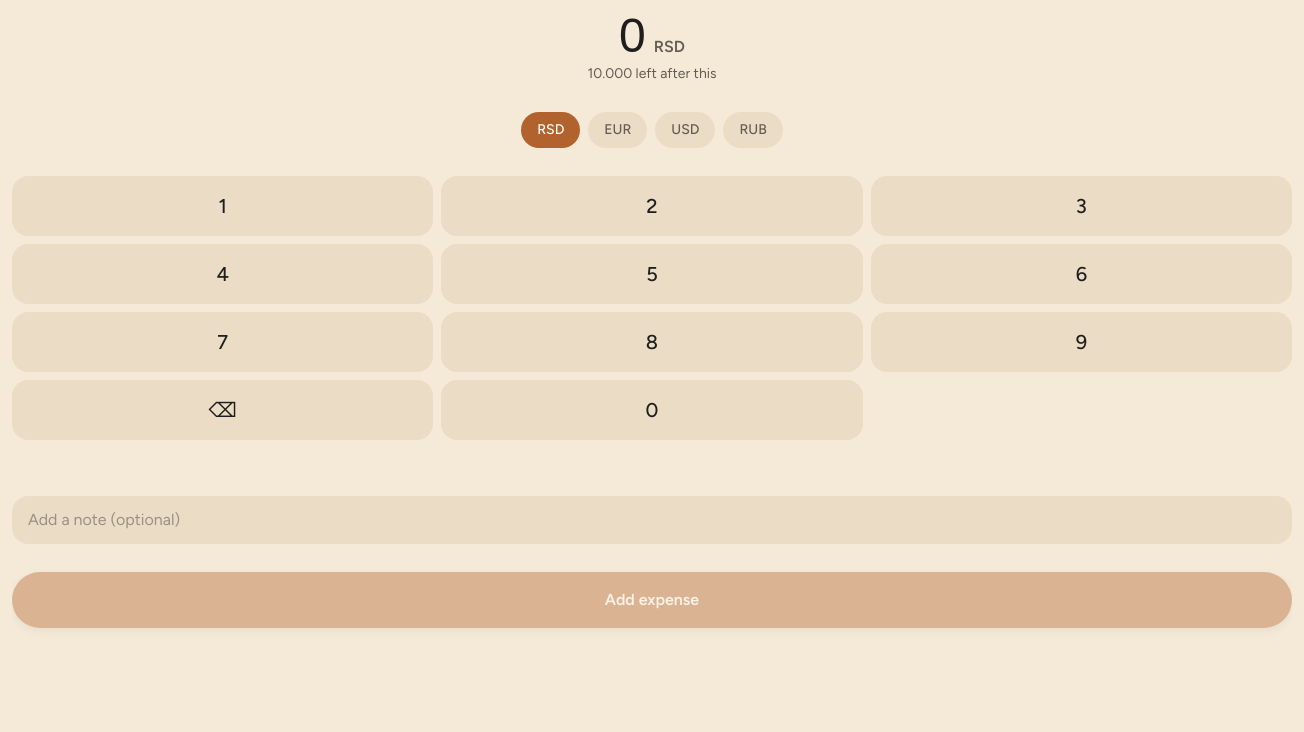
Scenario: AddExpenseForm › shows a live "left after this" preview as digits are entered
This screenshot has width=1304, height=732.
Click the button "5" at (652, 274), box [441, 244, 863, 304]
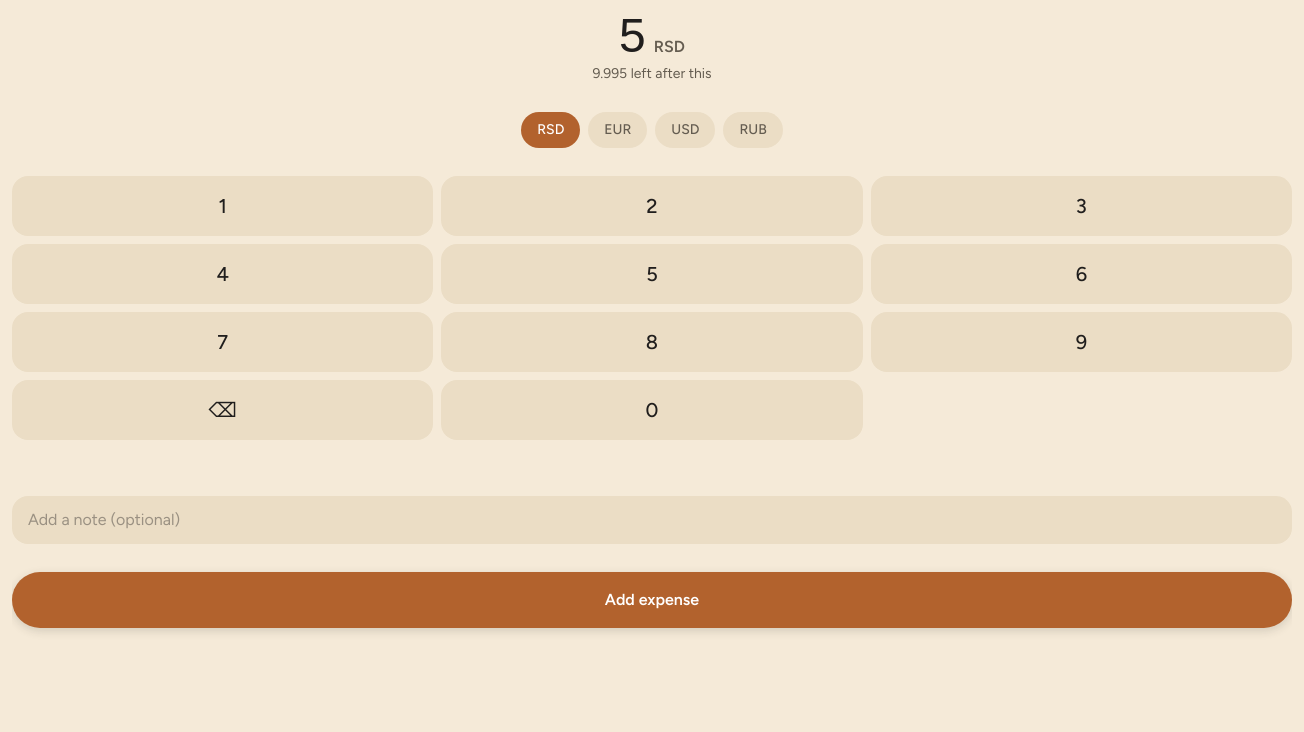
Click the button "0" at (652, 410), box [441, 380, 863, 440]
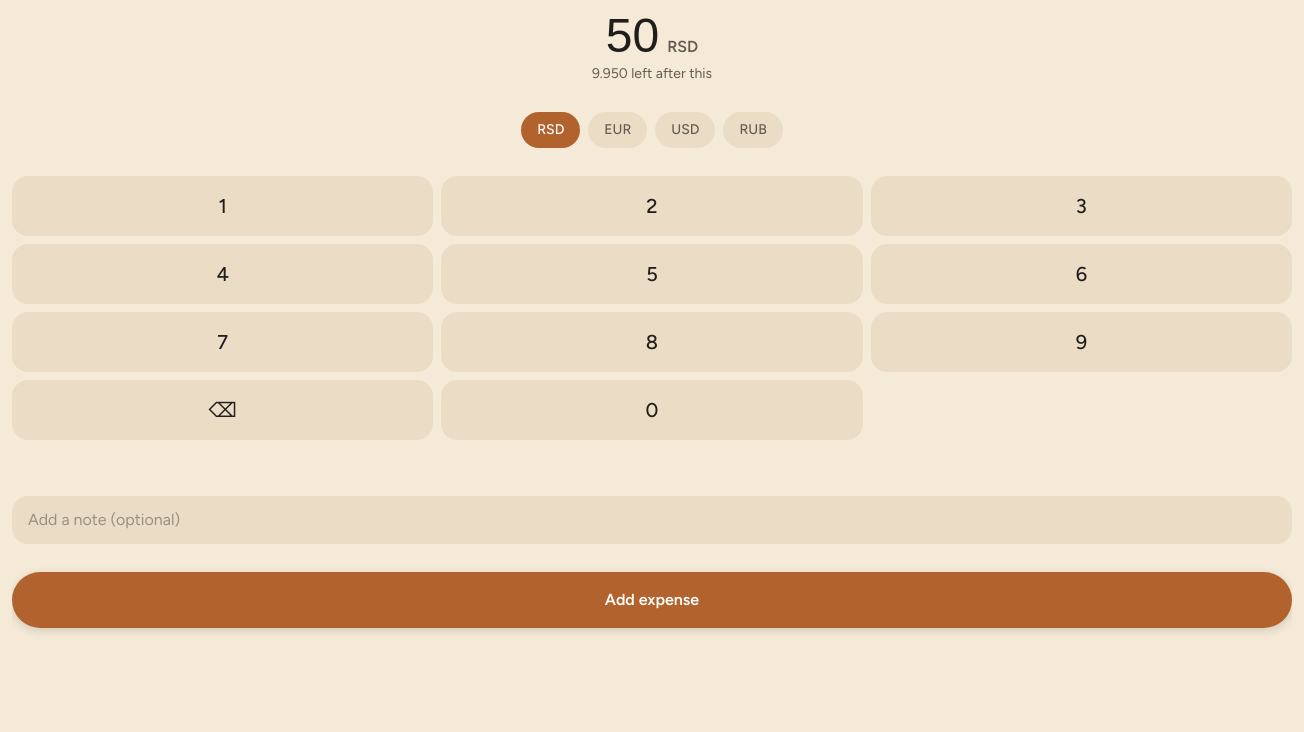
Click the button "0" at (652, 410), box [441, 380, 863, 440]
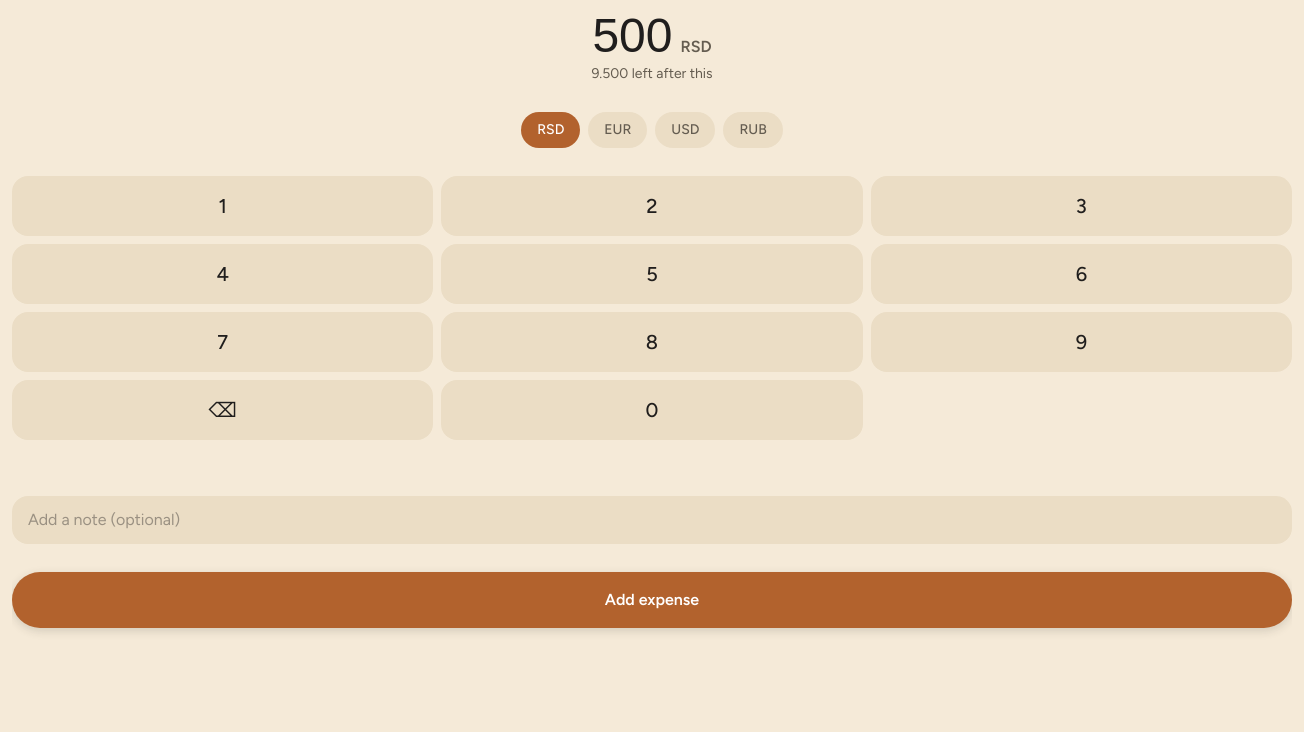
Expected: the text "9.500 left after this" is shown, [591, 64, 713, 84]
